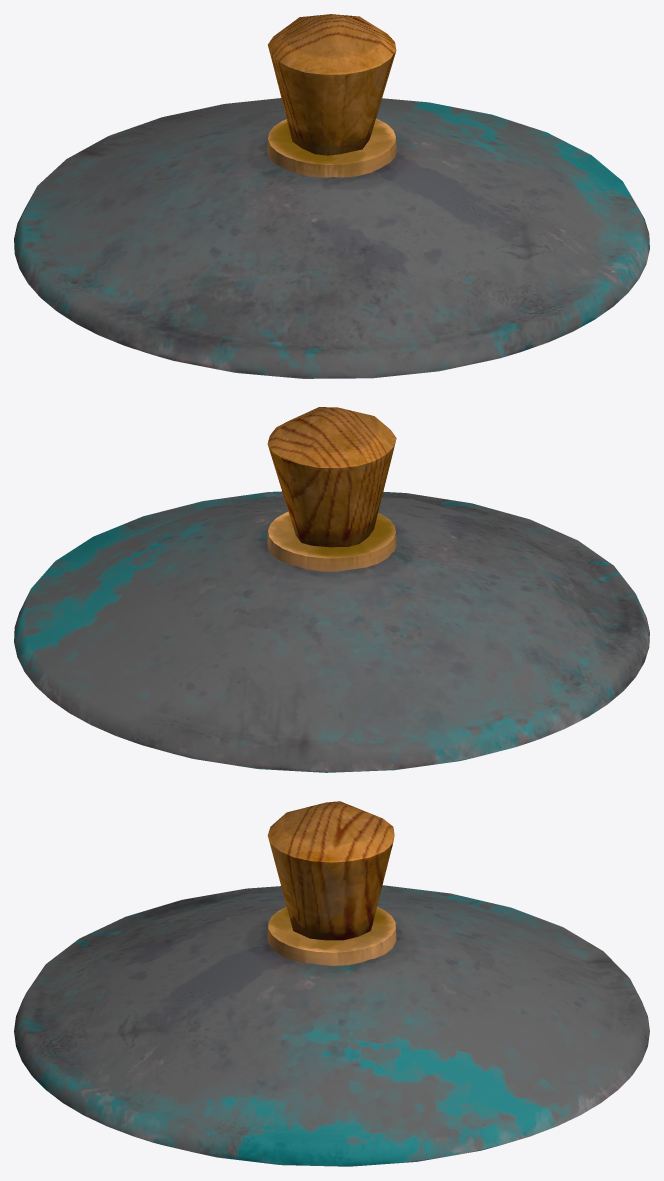
File: SM_Potion_Props_Pot_01_Cap.fbx
3 views of the same model, one above another, from view 1: azimuth 30°, elevation 25°; view 2: azimuth 150°, elevation 25°; view 3: azimuth 270°, elevation 25° (orthographic).
Visible parts, largest first — view 1: SM_Potion_Props_Pot_01_Cap_LOD0; view 2: SM_Potion_Props_Pot_01_Cap_LOD0; view 3: SM_Potion_Props_Pot_01_Cap_LOD0.
Boxes of the visible parts, box(x1,y1,x2,y2) form: SM_Potion_Props_Pot_01_Cap_LOD0: box(14, 14, 649, 378); SM_Potion_Props_Pot_01_Cap_LOD0: box(14, 407, 649, 772); SM_Potion_Props_Pot_01_Cap_LOD0: box(14, 801, 649, 1166).
Size of what is drawn, in the model's own units: 80.8 by 32.22 by 80.8.
